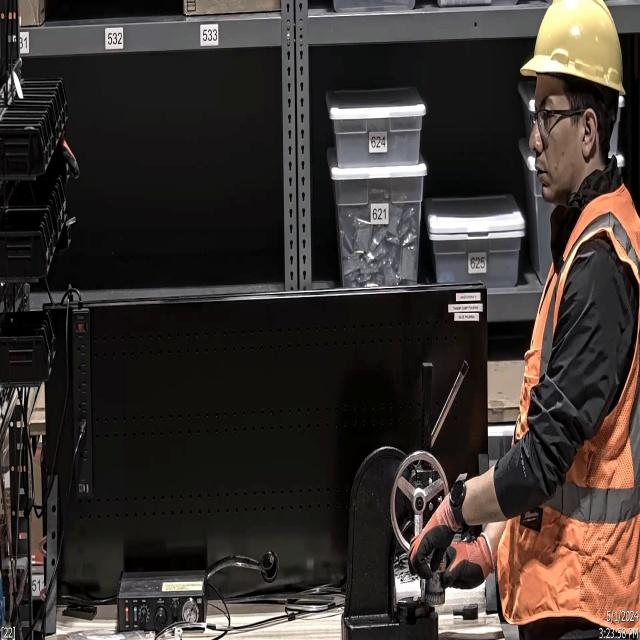gloves: (406, 490, 458, 582)
